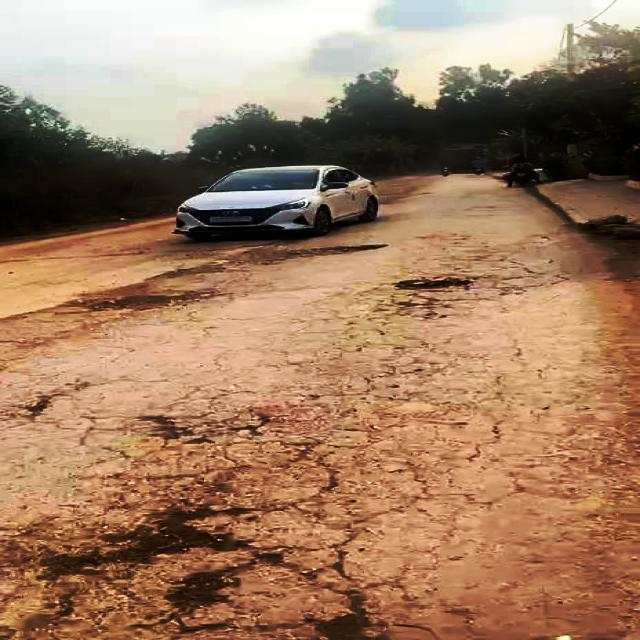pothole: (35, 494, 382, 640)
